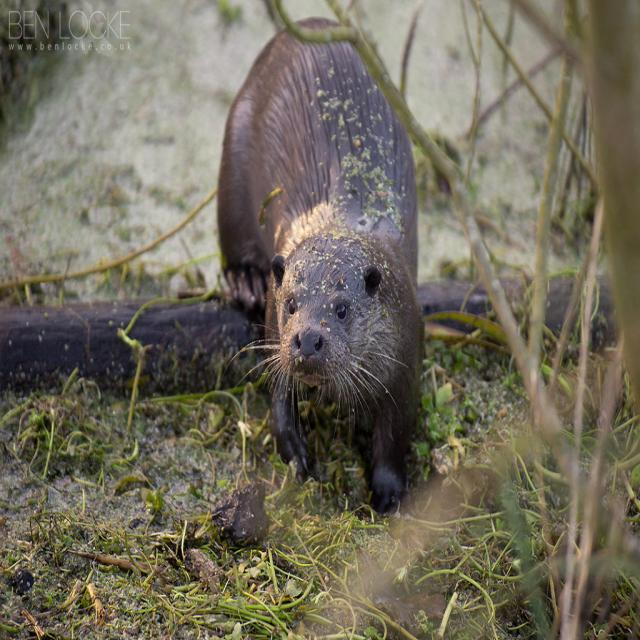otter: (222, 20, 422, 490)
